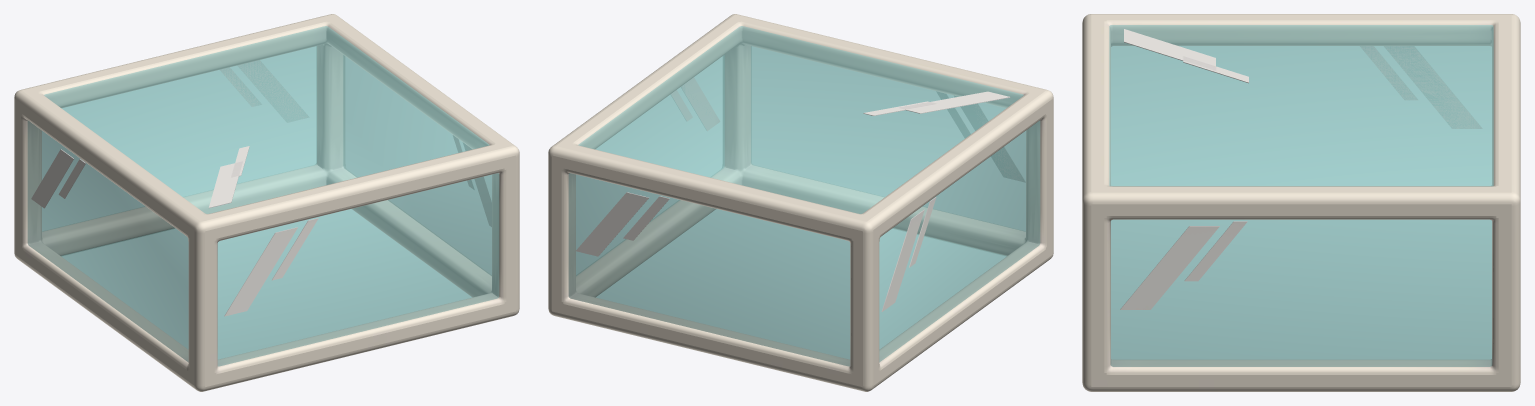
The model's file is vanishing-glass-block.fbx.
3 views of the same model, side by side, from view 1: azimuth 30°, elevation 25°; view 2: azimuth 150°, elevation 25°; view 3: azimuth 270°, elevation 25° (orthographic). The views are drawn at different scales.
Visible parts, largest first — view 1: vanishing-glass-block_crystal_core, vanishing-glass-block_body; view 2: vanishing-glass-block_crystal_core, vanishing-glass-block_body; view 3: vanishing-glass-block_crystal_core, vanishing-glass-block_body.
Part boxes in pixels (left/top/right/bottom): vanishing-glass-block_crystal_core: left=27, top=26, right=499, bottom=366; vanishing-glass-block_body: left=14, top=14, right=519, bottom=391; vanishing-glass-block_crystal_core: left=568, top=26, right=1040, bottom=366; vanishing-glass-block_body: left=548, top=14, right=1053, bottom=391; vanishing-glass-block_crystal_core: left=1109, top=25, right=1493, bottom=366; vanishing-glass-block_body: left=1082, top=14, right=1520, bottom=391.
Bounding box in the file's own units: 2 × 1 × 2.
2 materials, 1 textured.
